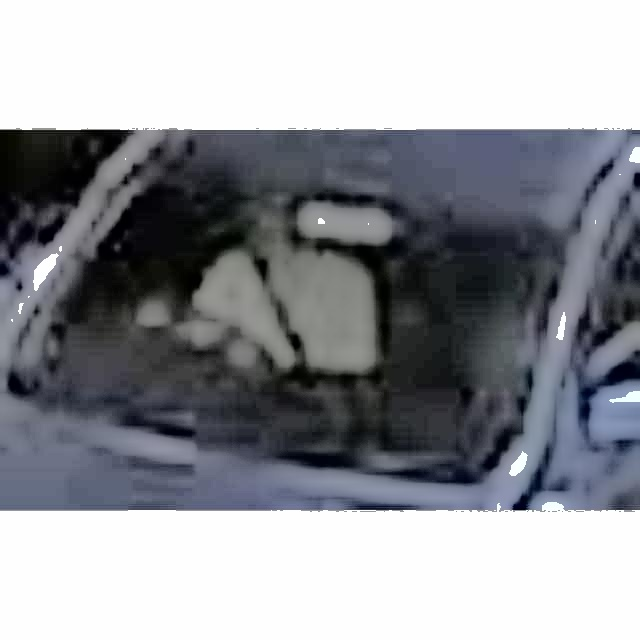pakai: (194, 211, 397, 405)
